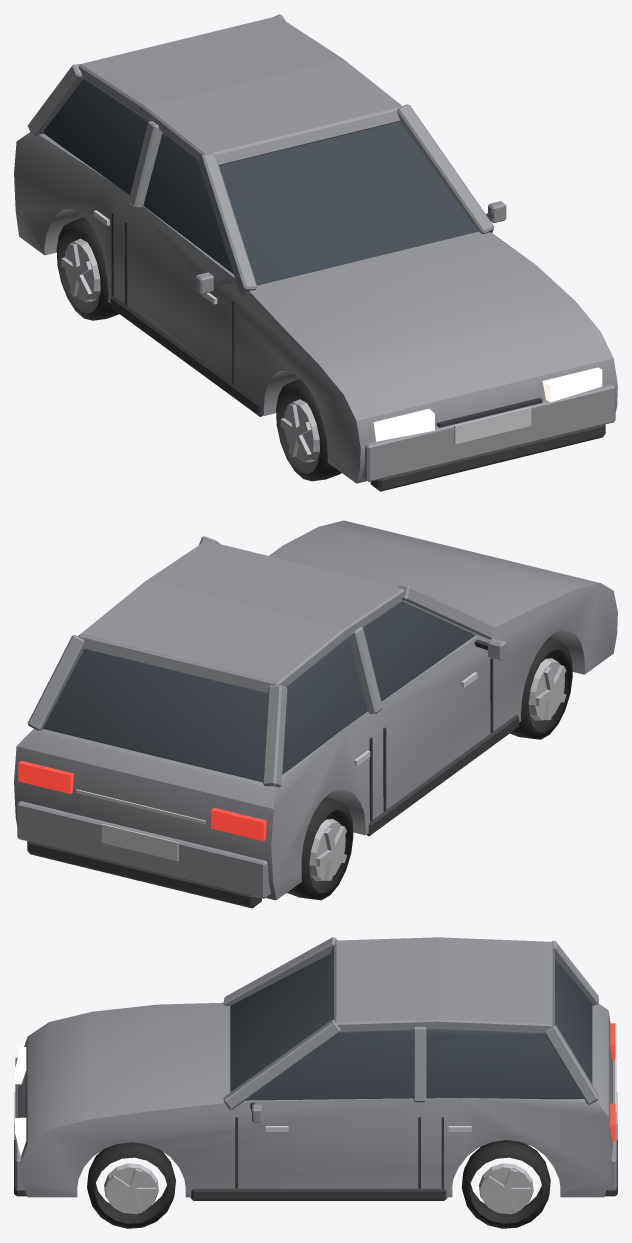
The model's file is car-grey.glb.
3 views of the same model, one above another, from view 1: azimuth 30°, elevation 25°; view 2: azimuth 150°, elevation 25°; view 3: azimuth 270°, elevation 25° (orthographic). The views are drawn at different scales.
Visible parts, largest first — view 1: car-grey; view 2: car-grey; view 3: car-grey.
Boxes of the visible parts, <box> form: car-grey: <box>14,14,617,491</box>; car-grey: <box>14,520,617,908</box>; car-grey: <box>14,937,617,1228</box>.
Size of the model in its own units: 2.1 by 1.53 by 4.19.
